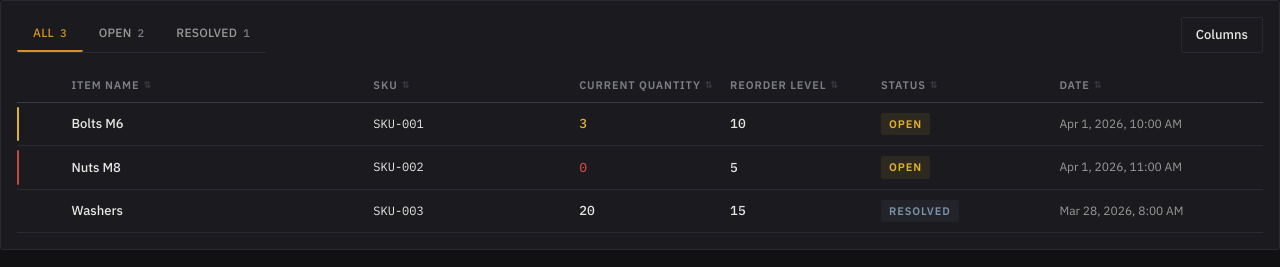
Test case: AlertsPanel › shows all alerts when All tab is clicked after filtering
Click the button with class "filter-tab" showing "Open 2": (122, 34) [83, 17, 160, 52]
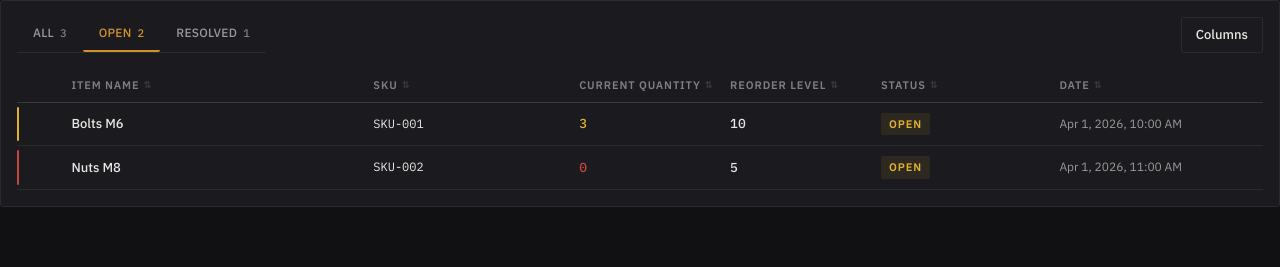
Click the button with class "filter-tab" showing "All 3": (50, 34) [17, 17, 83, 52]
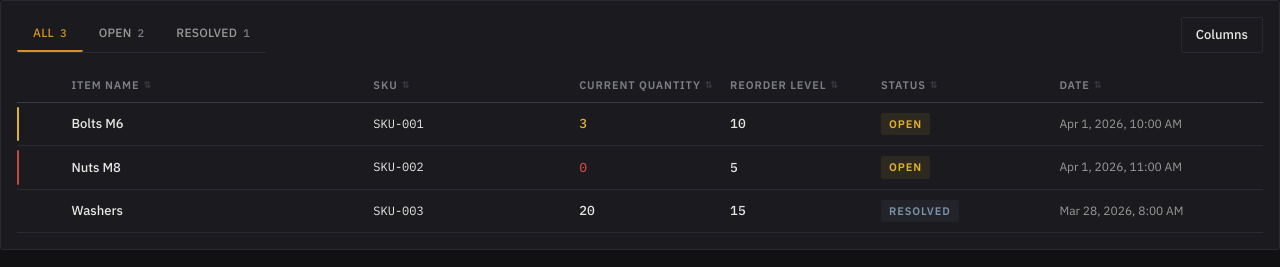
Expected: the text "Bolts M6" is shown, [55, 102, 357, 146]
Expected: the text "Washers" is shown, [55, 189, 357, 233]
